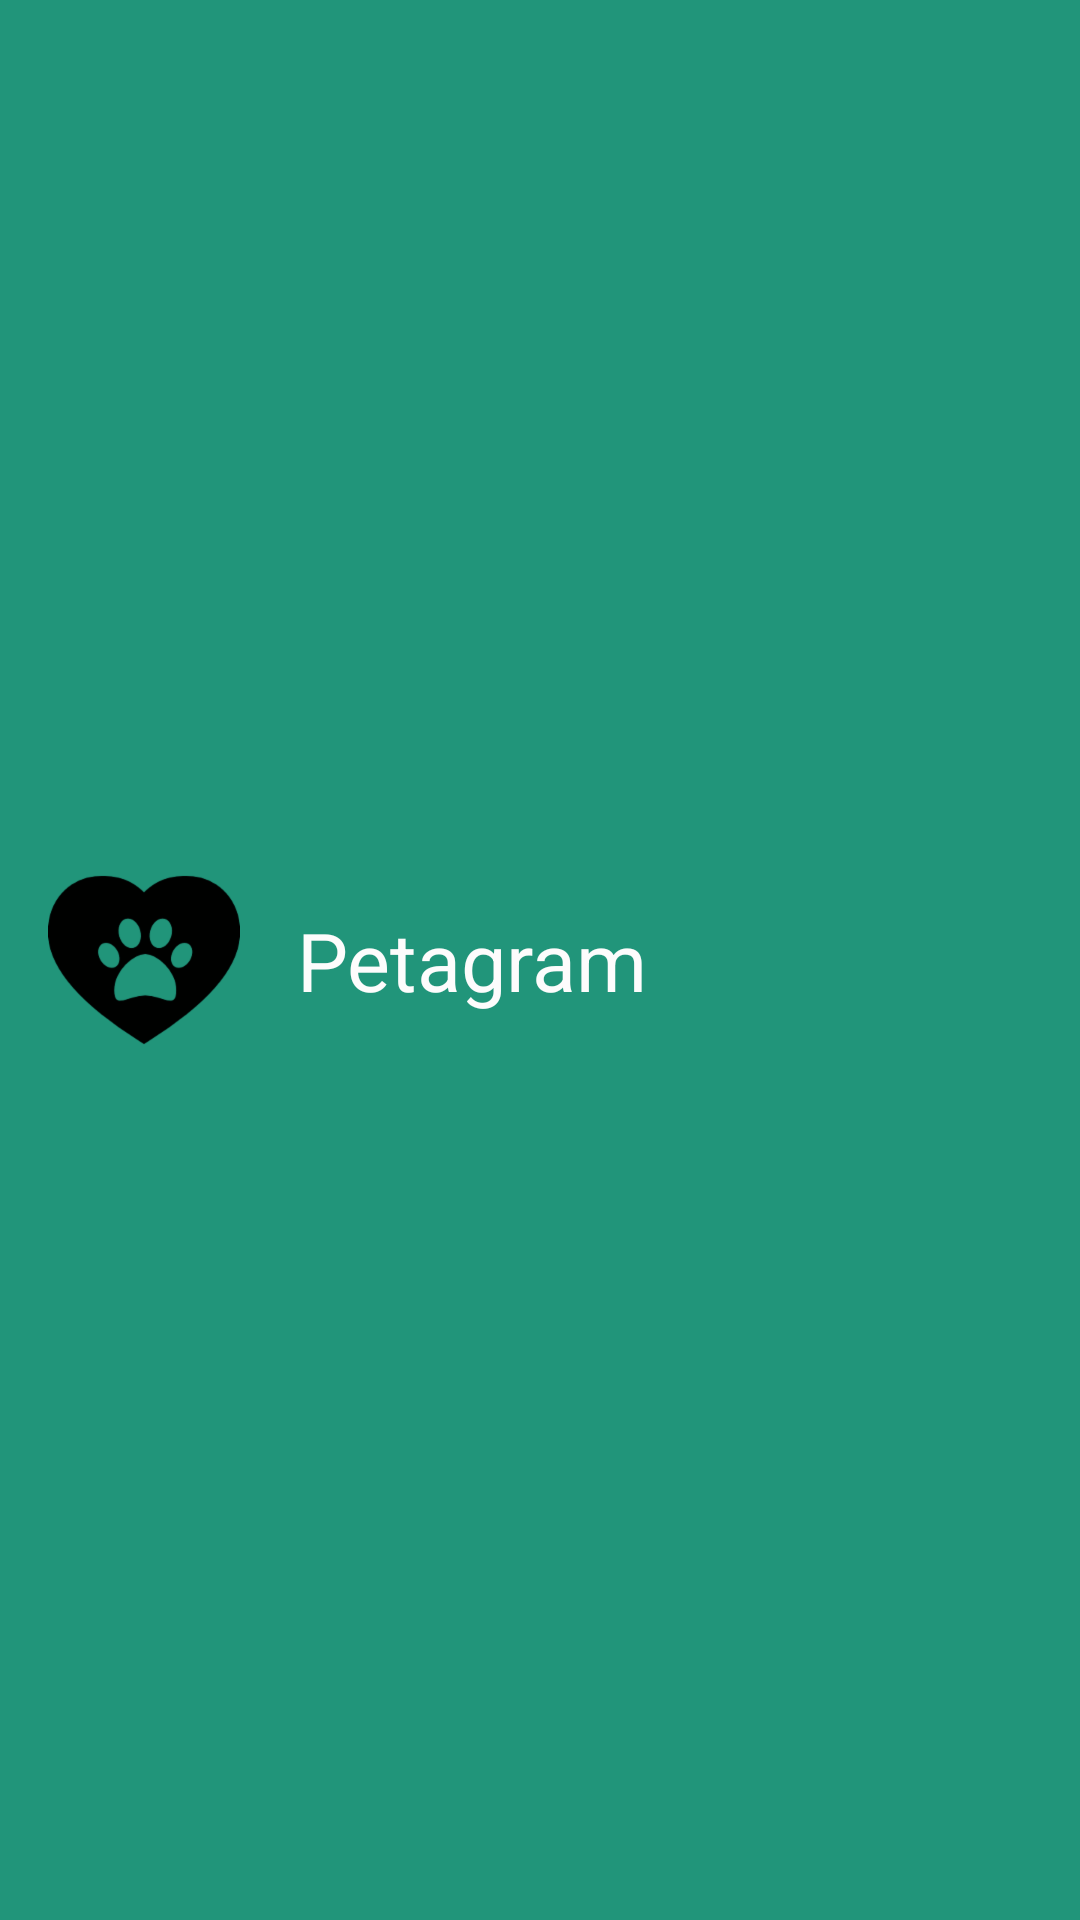

Where to tap for icons on this 1080w x 1920h app screen, as point (x, y):
huella: point (144, 960)
